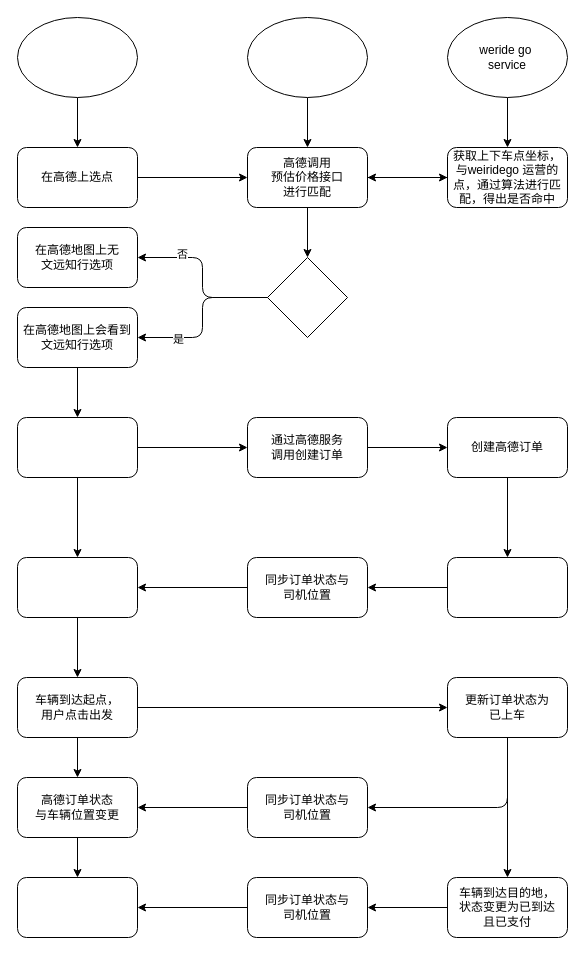
This 585x955 diagram has some shape labels left out. Here are the shapes that lost their labels. From the top down, the centre of each, then its label:
(77,57): User
(307,57): Gaode serivce
(307,297): 是否命中 上下车点
(77,447): 选择文远知行选项 进行呼叫
(77,587): 更新用户订单状态， 与车辆位置信息
(507,587): 通过派单服务 完成高德订单与无人车派单服务，更新订单状态
(77,907): 高德订单结束
